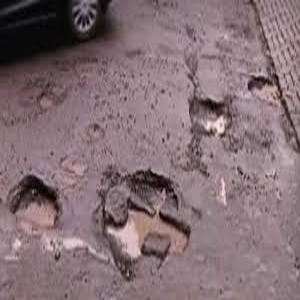pothole: (96, 163, 194, 282), (185, 93, 235, 180), (9, 172, 63, 232), (249, 75, 277, 106)
